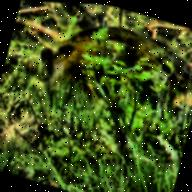boar: (32, 5, 192, 144)
